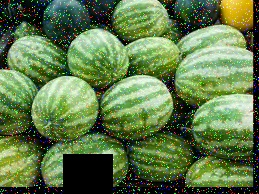watermelon: (99, 75, 175, 141), (41, 135, 130, 185), (32, 74, 97, 142), (176, 48, 252, 103), (68, 29, 130, 84)
